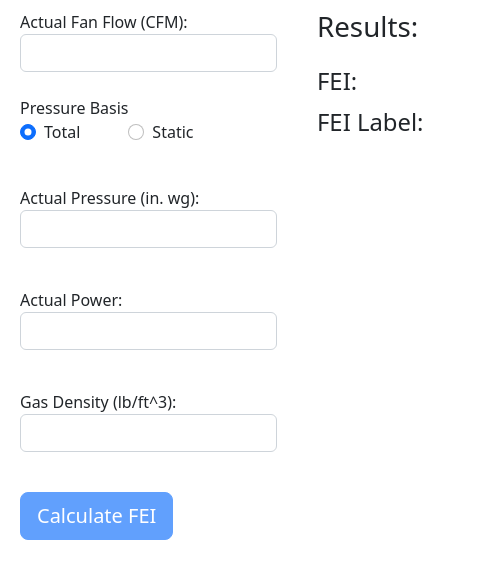
Form App › should calculate the FEI and label correctly when the pressure basis is 'Total'
The width and height of the screenshot is (501, 561).
Type "10000" into the number field labelled "Actual Fan Flow (CFM):" at (148, 53), box [20,34,277,72]
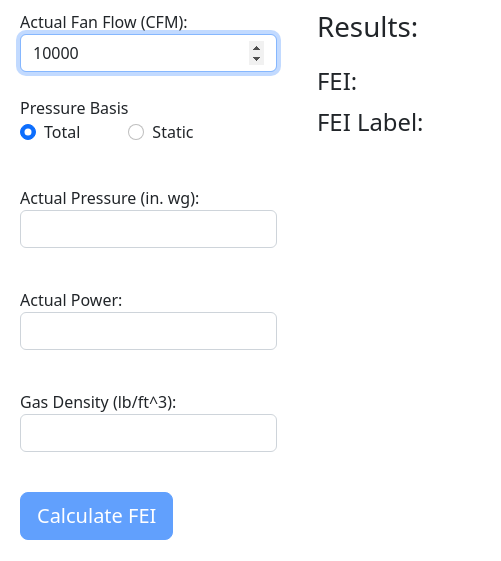
Click the text "Total" at (62, 132), box [44,120,80,144]
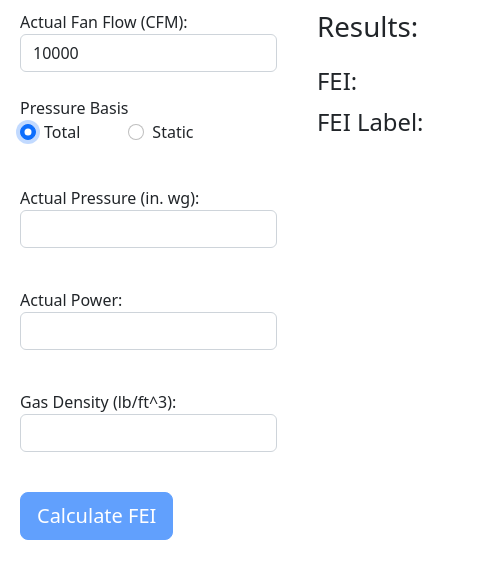
Type "3.0" into the number field labelled "Actual Pressure (in. wg):" at (148, 229), box [20,210,277,248]
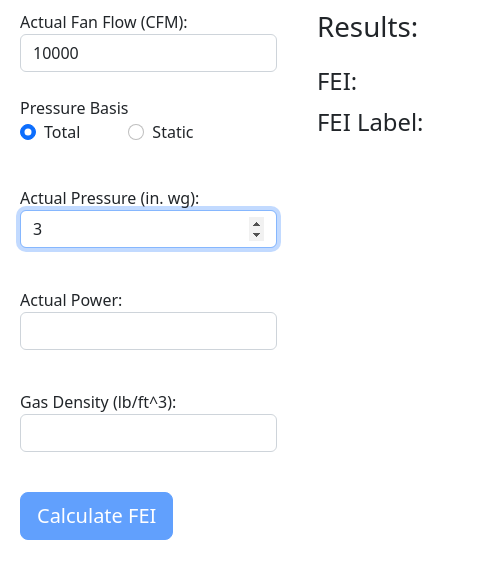
Type "6.48" into the number field labelled "Actual Power:" at (148, 331), box [20,312,277,350]
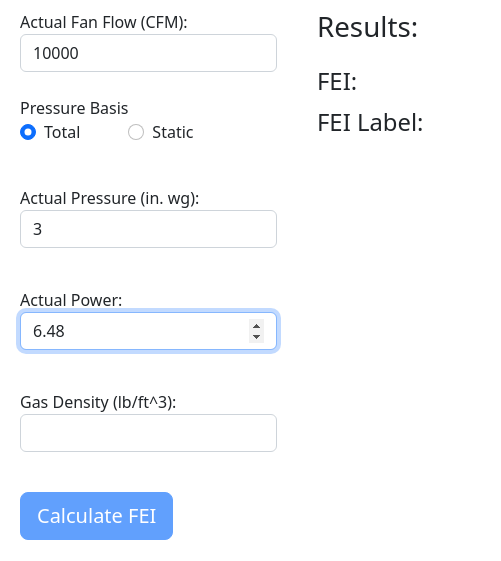
Type ".080713" into the number field labelled "Gas Density (lb/ft^3):" at (148, 433), box [20,414,277,452]
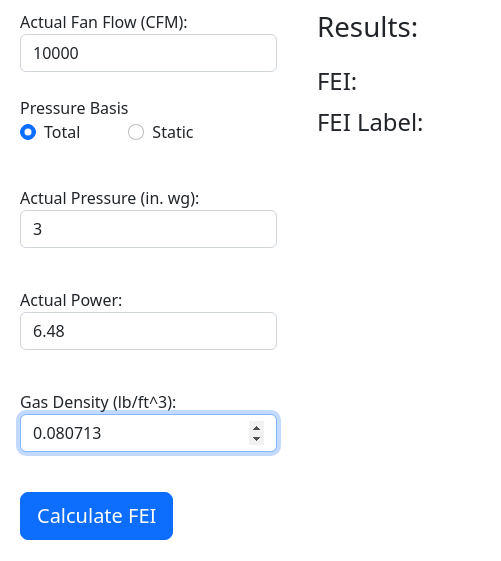
Click the button "Calculate FEI" at (97, 516), box [20,492,173,540]
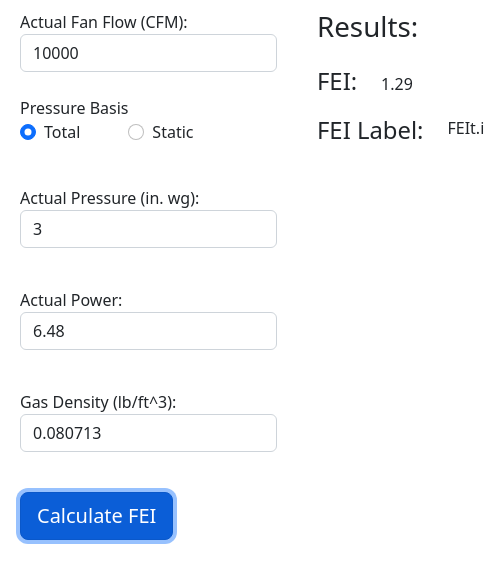
Now the text "1.29" is shown, box [381,72,413,96]
Now the text "FEIt.i" is shown, box [448,116,484,140]
